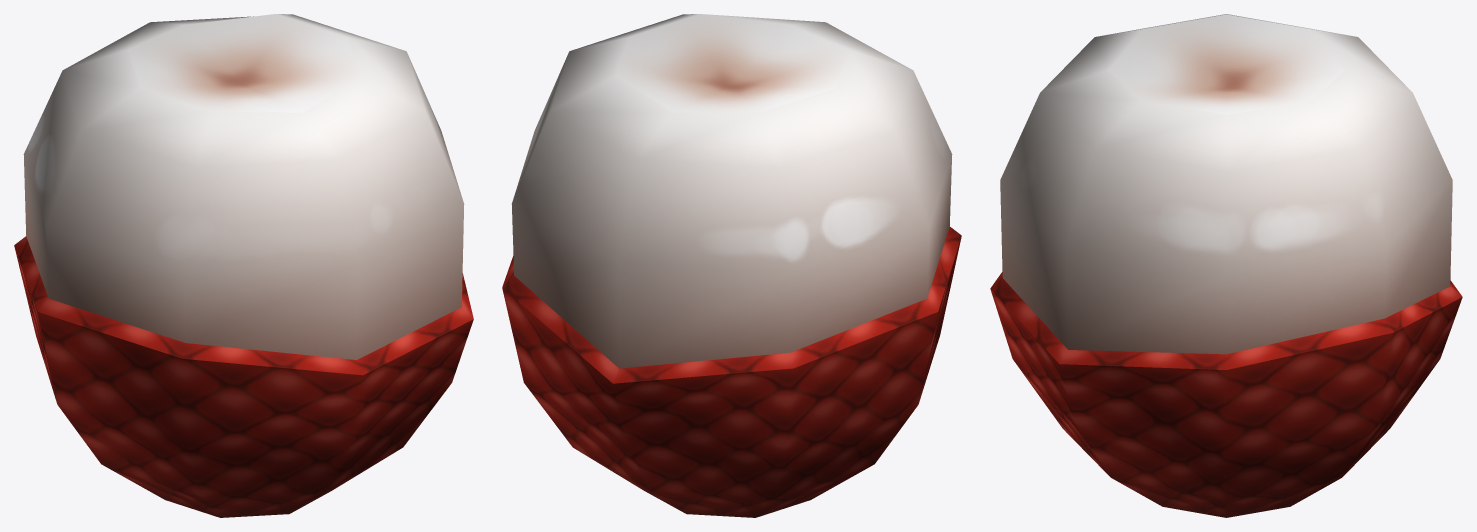
File: Lychee_Peeled.fbx
The picture shows the model from 3 angles, left to right: view 1: azimuth 30°, elevation 25°; view 2: azimuth 150°, elevation 25°; view 3: azimuth 270°, elevation 25°; orthographic projection.
Visible parts, largest first — view 1: Lychee_Peeled; view 2: Lychee_Peeled; view 3: Lychee_Peeled.
Boxes of the visible parts, x1,y1,x2,y2 form: Lychee_Peeled: (14, 14, 473, 517); Lychee_Peeled: (502, 14, 961, 517); Lychee_Peeled: (990, 14, 1462, 517).
Size of the model in its own units: 23.04 by 23.28 by 23.04.
